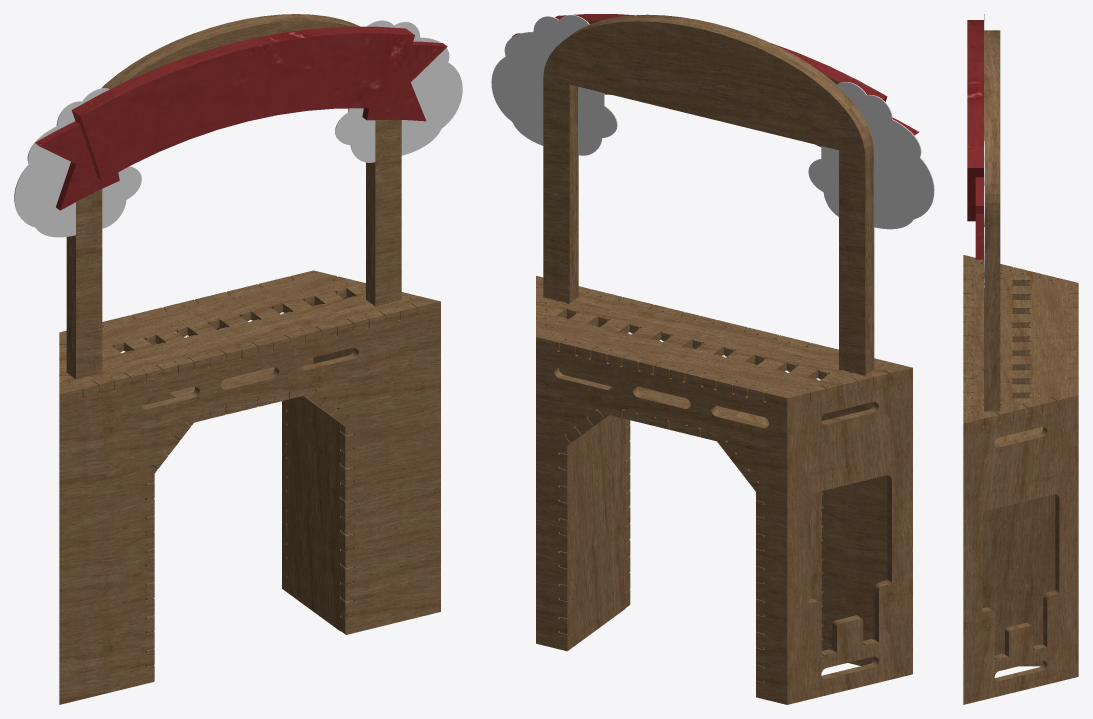
The model's file is puppet.glb.
3 renders of one model, left to right at view 1: azimuth 30°, elevation 25°; view 2: azimuth 150°, elevation 25°; view 3: azimuth 270°, elevation 25°, orthographic. The views are drawn at different scales.
Parts seen in each view (by area): view 1: Assem62; view 2: Assem62; view 3: Assem62.
Part boxes in pixels (x1,y1,x2,y2): Assem62: [14, 14, 462, 704]; Assem62: [491, 14, 934, 704]; Assem62: [963, 14, 1078, 704].
Bounding box in the file's own units: 1.07 × 1.42 × 0.2639.
Materials: 3 (2 with a texture image).
